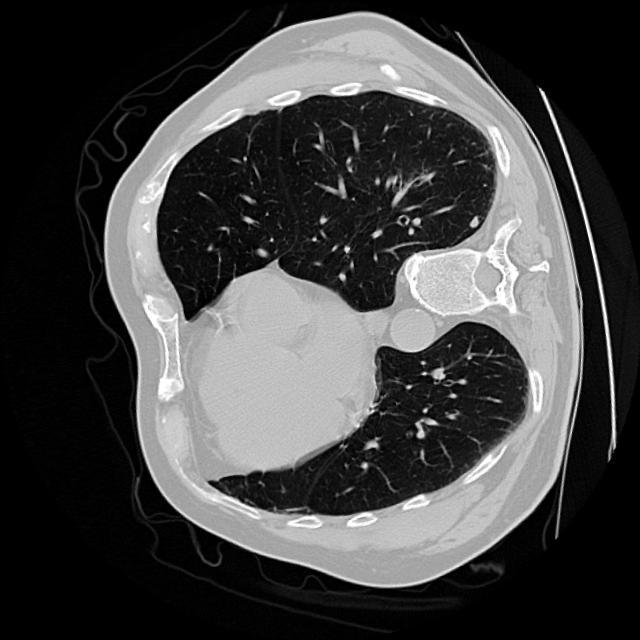nodule: (455, 202, 489, 236)
